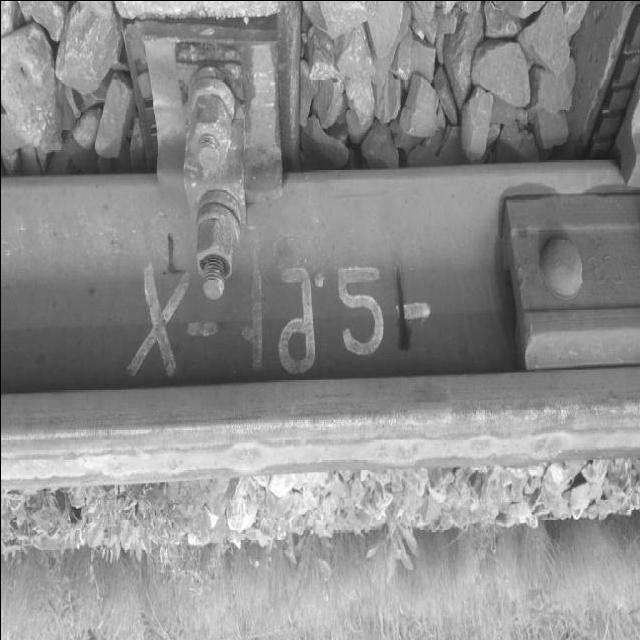head_checks_high: (354, 417, 422, 473), (527, 418, 568, 467), (222, 429, 265, 475), (94, 436, 136, 480), (152, 439, 191, 477), (458, 424, 497, 462)
